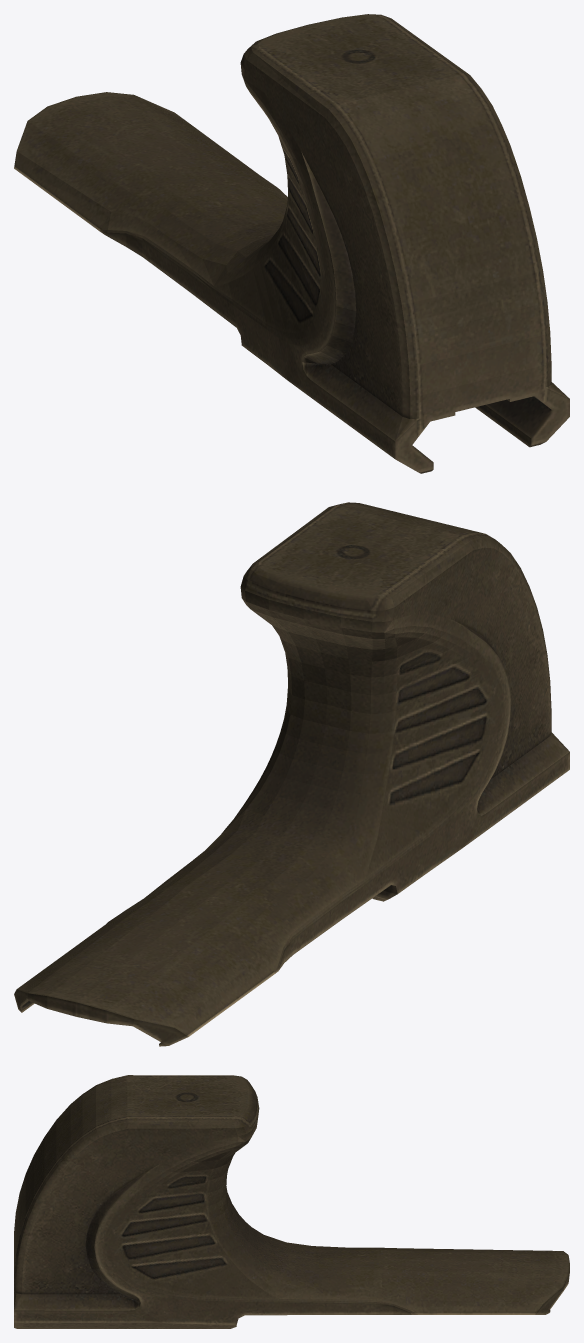
3 views of the same model, one above another, from view 1: azimuth 30°, elevation 25°; view 2: azimuth 150°, elevation 25°; view 3: azimuth 270°, elevation 25° (orthographic). The views are drawn at different scales.
Parts seen in each view (by area): view 1: TW_673ddbb567c759b3c90e5f76_PZ_Import; view 2: TW_673ddbb567c759b3c90e5f76_PZ_Import; view 3: TW_673ddbb567c759b3c90e5f76_PZ_Import.
Boxes of the visible parts, <box> form: TW_673ddbb567c759b3c90e5f76_PZ_Import: <box>14,14,569,473</box>; TW_673ddbb567c759b3c90e5f76_PZ_Import: <box>14,502,569,1046</box>; TW_673ddbb567c759b3c90e5f76_PZ_Import: <box>14,1075,569,1328</box>.
Size of the model in its own units: 0.0156 by 0.0627 by 0.0264.
Materials: 1 (1 with a texture image).
